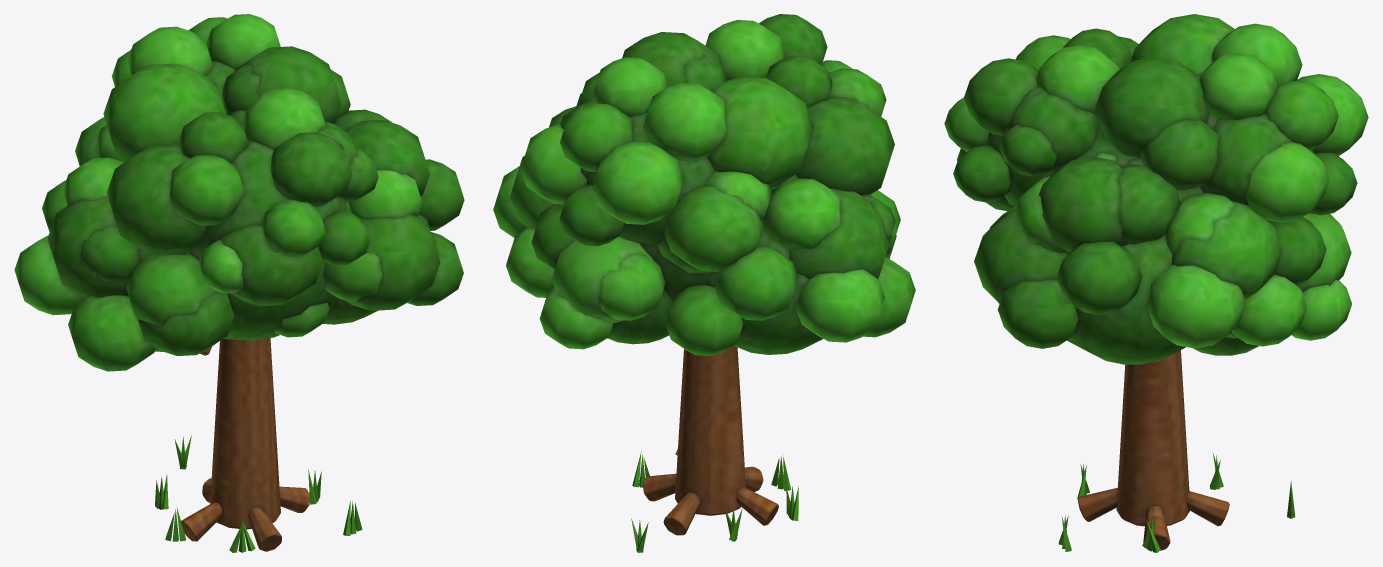
The model's file is apple_tree.glb.
3 renders of one model, left to right at view 1: azimuth 30°, elevation 25°; view 2: azimuth 150°, elevation 25°; view 3: azimuth 270°, elevation 25°, orthographic. The views are drawn at different scales.
Parts seen in each view (by area): view 1: crown, apple_tree; view 2: crown, apple_tree; view 3: crown, apple_tree.
Part boxes in pixels (x1,y1,x2,y2): crown: (14, 14, 464, 371); apple_tree: (155, 338, 362, 552); crown: (493, 14, 915, 355); apple_tree: (631, 345, 798, 552); crown: (944, 14, 1368, 364); apple_tree: (1058, 350, 1295, 552).
Size of the model in its own units: 1.13 by 1.3 by 1.03.
1 material, 1 textured.
